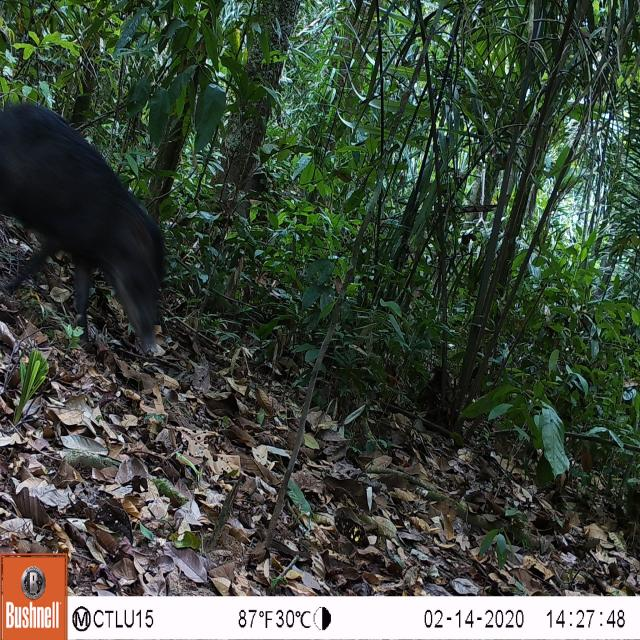White-lipped Peccary: (0, 86, 169, 358)
